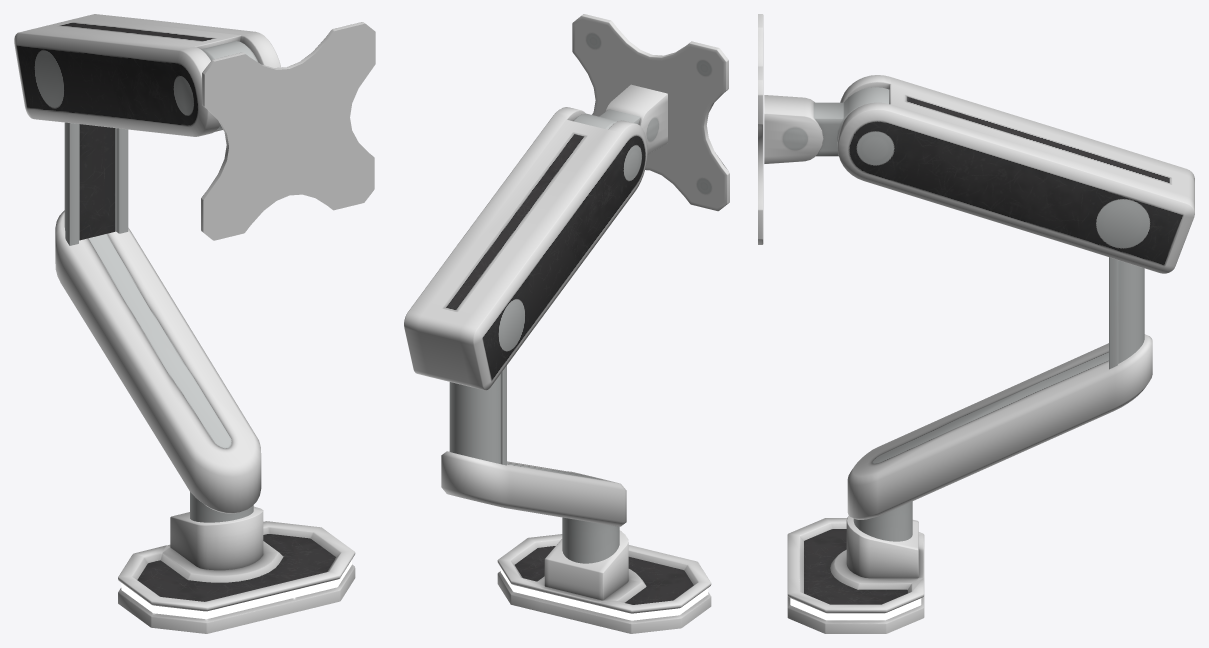
The model's file is DisplayStand02.FBX.
3 views of the same model, side by side, from view 1: azimuth 30°, elevation 25°; view 2: azimuth 150°, elevation 25°; view 3: azimuth 270°, elevation 25° (orthographic). The views are drawn at different scales.
Parts seen in each view (by area): view 1: Part1, Part4, Part2, DisplayStand02, Part3; view 2: Part2, Part4, Part1, DisplayStand02, Part3; view 3: Part2, Part1, DisplayStand02, Part4, Part3.
Boxes of the visible parts, x1,y1,x2,y2 form: Part1: [55, 122, 261, 522]; Part4: [201, 22, 375, 240]; Part2: [14, 14, 281, 136]; DisplayStand02: [118, 506, 355, 633]; Part3: [201, 41, 258, 129]; Part2: [404, 107, 647, 390]; Part4: [572, 14, 729, 211]; Part1: [441, 366, 626, 563]; DisplayStand02: [497, 530, 711, 633]; Part3: [573, 109, 640, 129]; Part2: [837, 75, 1194, 273]; Part1: [847, 257, 1152, 541]; DisplayStand02: [787, 516, 924, 633]; Part4: [758, 14, 823, 244]; Part3: [813, 87, 889, 156].
Size of what is drawn, in the model's own units: 0.2247 by 0.6173 by 0.4513.
